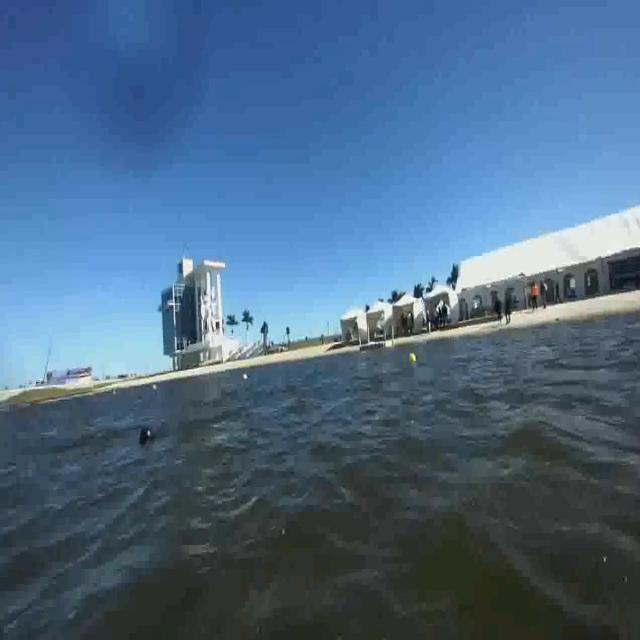black-buoy: (136, 422, 157, 446)
yellow-buoy: (409, 351, 418, 364)
